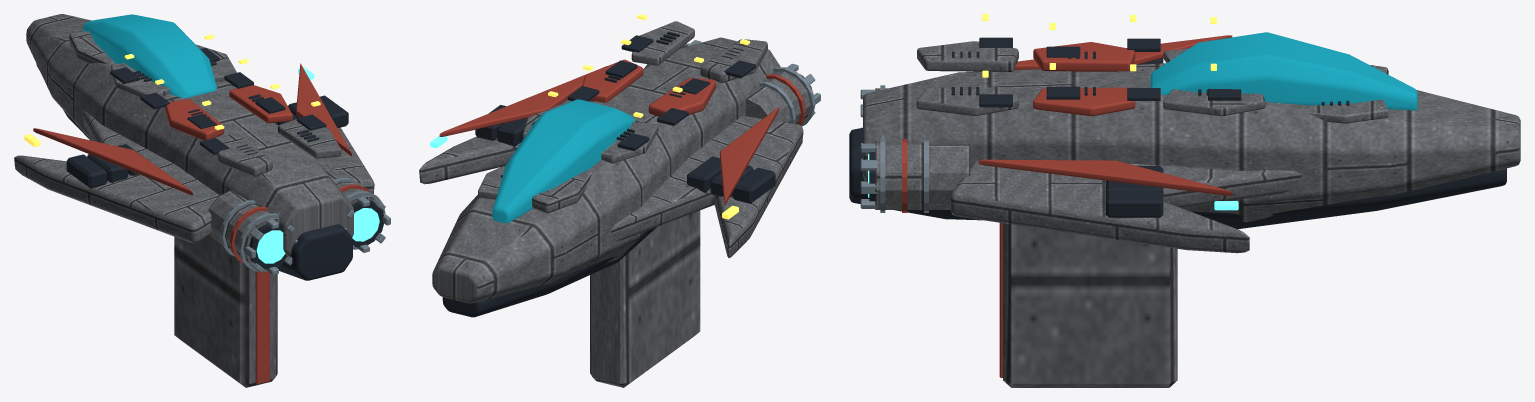
The model's file is lumen.glb.
3 views of the same model, side by side, from view 1: azimuth 30°, elevation 25°; view 2: azimuth 150°, elevation 25°; view 3: azimuth 270°, elevation 25° (orthographic). The views are drawn at different scales.
Visible parts, largest first — view 1: Quilha ventral · exportação, Bocal do motor.027 · exportação, Faixa da quilha · exportação, Cabine panorâmica.013 · exportação, Aleta do bocal.223 · exportação, Núcleo propulsor.027 · exportação, Luz de serviço.111 · exportação; view 2: Quilha ventral · exportação, Cabine panorâmica.013 · exportação, Bocal do motor.027 · exportação, Faixa da quilha · exportação, Aleta do bocal.223 · exportação, Luz de serviço.111 · exportação; view 3: Quilha ventral · exportação, Cabine panorâmica.013 · exportação, Bocal do motor.027 · exportação, Faixa da quilha · exportação, Aleta do bocal.223 · exportação.
Boxes of the visible parts, x1=… form: Quilha ventral · exportação: x1=14, y1=14, x2=384, y2=387; Bocal do motor.027 · exportação: x1=36, y1=47, x2=383, y2=280; Faixa da quilha · exportação: x1=33, y1=63, x2=370, y2=384; Cabine panorâmica.013 · exportação: x1=82, y1=14, x2=216, y2=97; Aleta do bocal.223 · exportação: x1=220, y1=178, x2=390, y2=274; Núcleo propulsor.027 · exportação: x1=256, y1=67, x2=379, y2=263; Luz de serviço.111 · exportação: x1=24, y1=34, x2=320, y2=146; Quilha ventral · exportação: x1=419, y1=21, x2=812, y2=387; Cabine panorâmica.013 · exportação: x1=492, y1=99, x2=635, y2=223; Bocal do motor.027 · exportação: x1=442, y1=31, x2=811, y2=317; Faixa da quilha · exportação: x1=439, y1=59, x2=805, y2=205; Aleta do bocal.223 · exportação: x1=644, y1=40, x2=820, y2=126; Luz de serviço.111 · exportação: x1=548, y1=14, x2=749, y2=219; Quilha ventral · exportação: x1=863, y1=41, x2=1520, y2=387; Cabine panorâmica.013 · exportação: x1=1150, y1=32, x2=1417, y2=110; Bocal do motor.027 · exportação: x1=849, y1=37, x2=1506, y2=228; Faixa da quilha · exportação: x1=902, y1=35, x2=1232, y2=377; Aleta do bocal.223 · exportação: x1=860, y1=85, x2=928, y2=212.
Size of the model in its own units: 30.18 by 27.7 by 49.96.
Materials: 7 (1 with a texture image).
